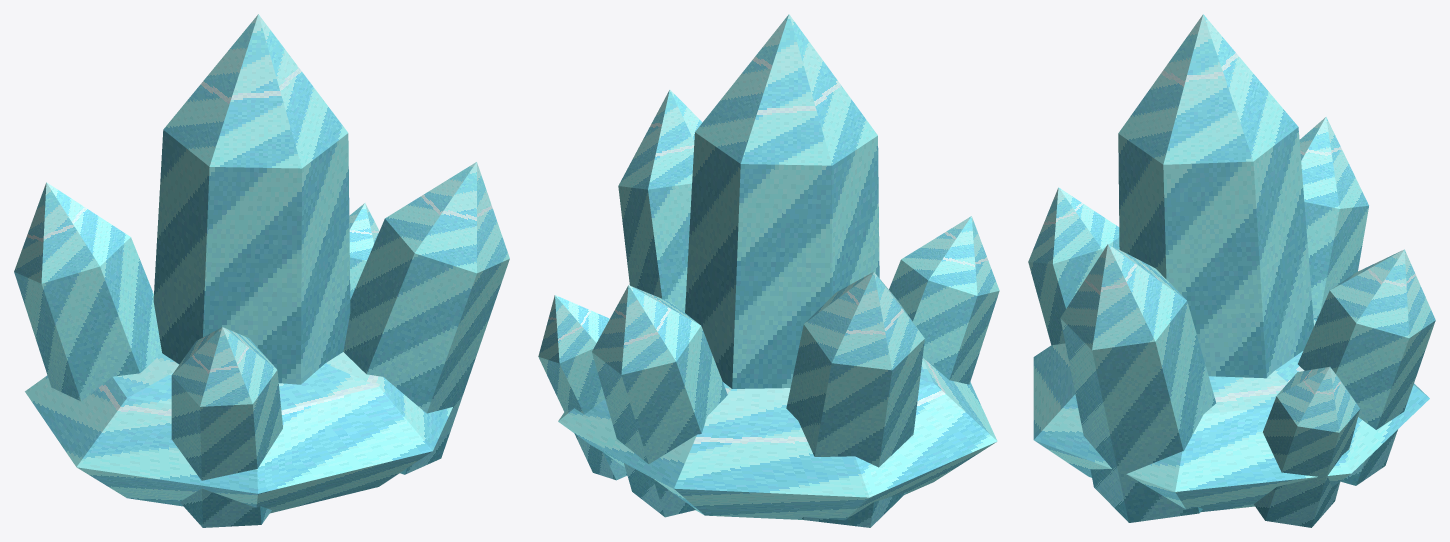
The model's file is cristal_alto.glb.
The picture shows the model from 3 angles, left to right: view 1: azimuth 30°, elevation 25°; view 2: azimuth 150°, elevation 25°; view 3: azimuth 270°, elevation 25°; orthographic projection. The views are drawn at different scales.
Visible parts, largest first — view 1: cristal_alto; view 2: cristal_alto; view 3: cristal_alto.
Part boxes in pixels (x1,y1,x2,y2): cristal_alto: [14, 14, 509, 527]; cristal_alto: [538, 14, 999, 527]; cristal_alto: [1028, 14, 1435, 527].
Size of the model in its own units: 1.39 by 1.57 by 1.28.
1 material, 1 textured.
